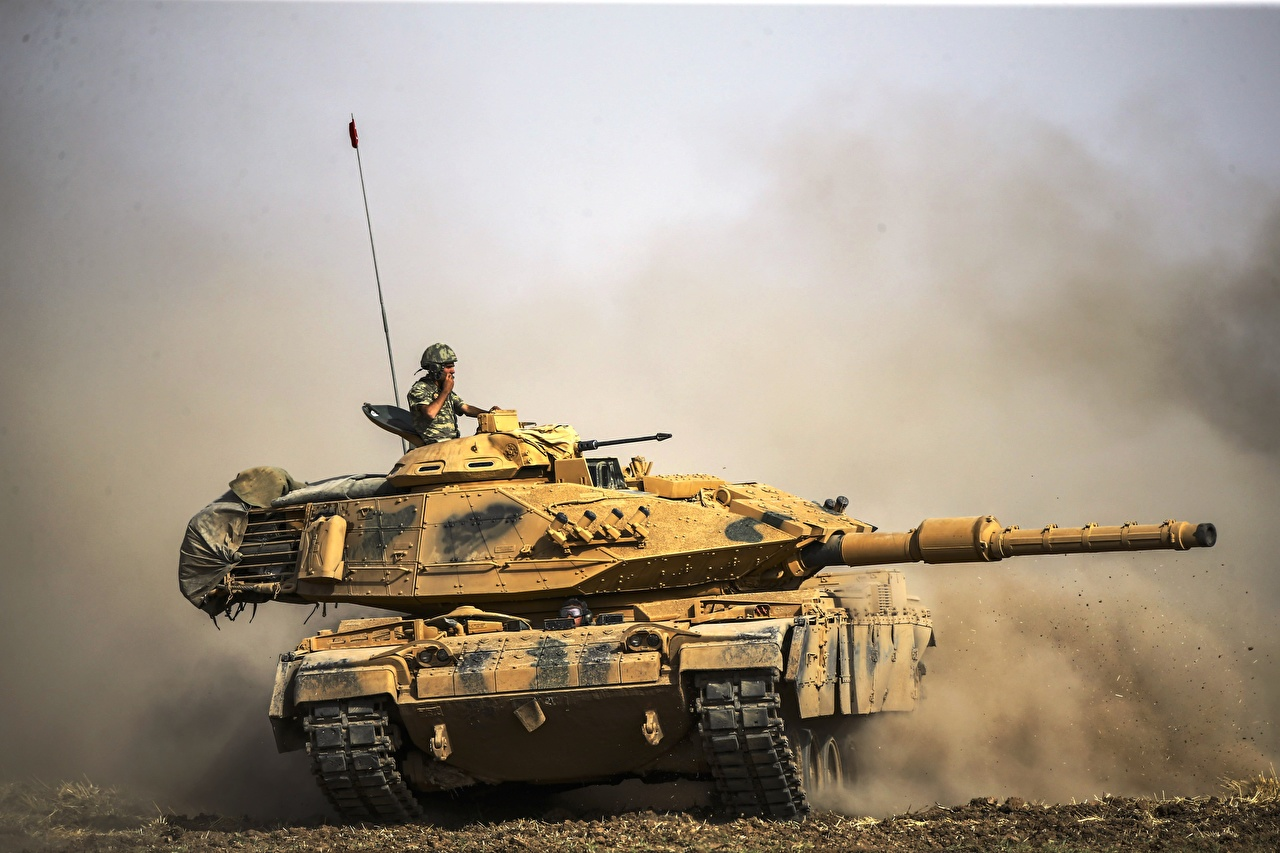pilot: (397, 345, 501, 446)
tank: (186, 413, 1242, 813)
